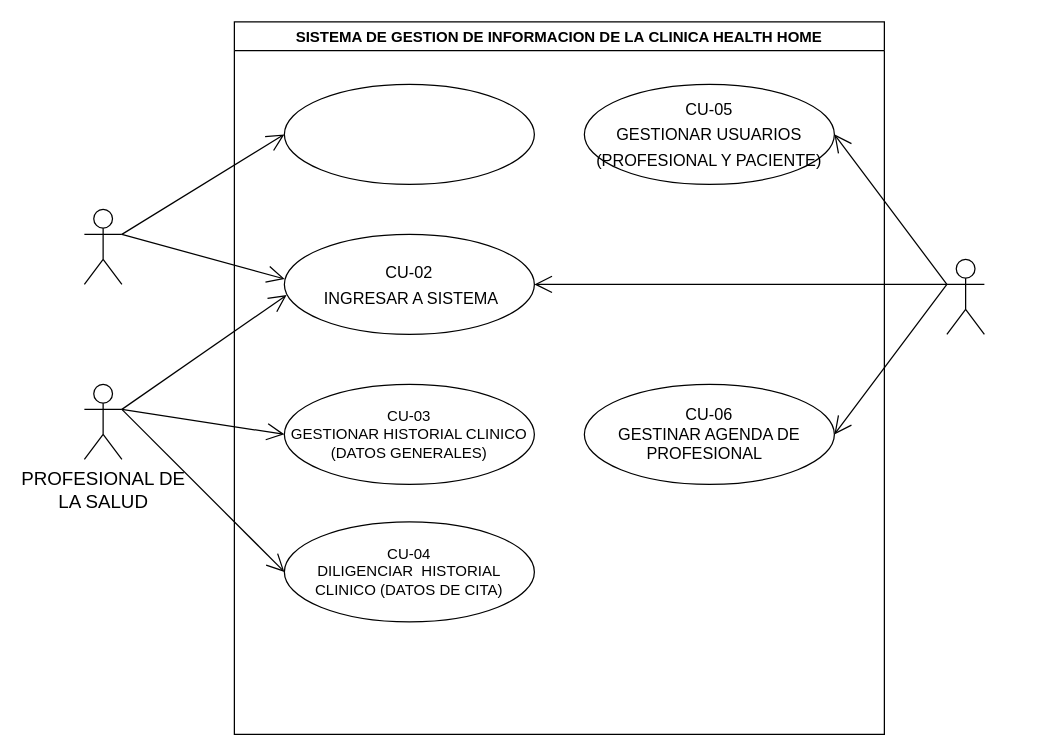
This 1060x756 diagram has some shape labels left out. Here are the shapes that lost their labels. From the top down, the centre of each, then its label:
pixel 408 133: CU-01 AGENDAR CITA
pixel 102 246: PACIENTE
pixel 965 296: ADMINISTRADOR SISTEMA
